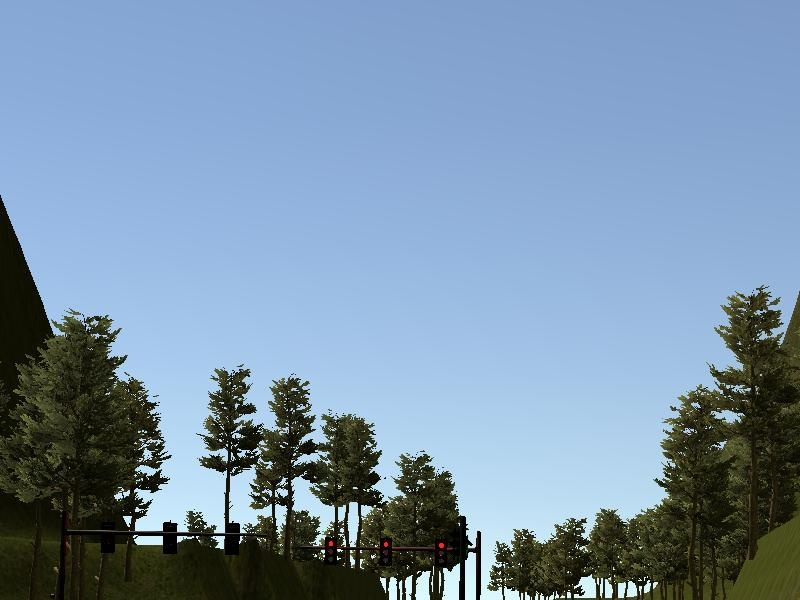Red: (379, 538, 392, 567), (324, 536, 337, 564), (434, 539, 447, 567)
